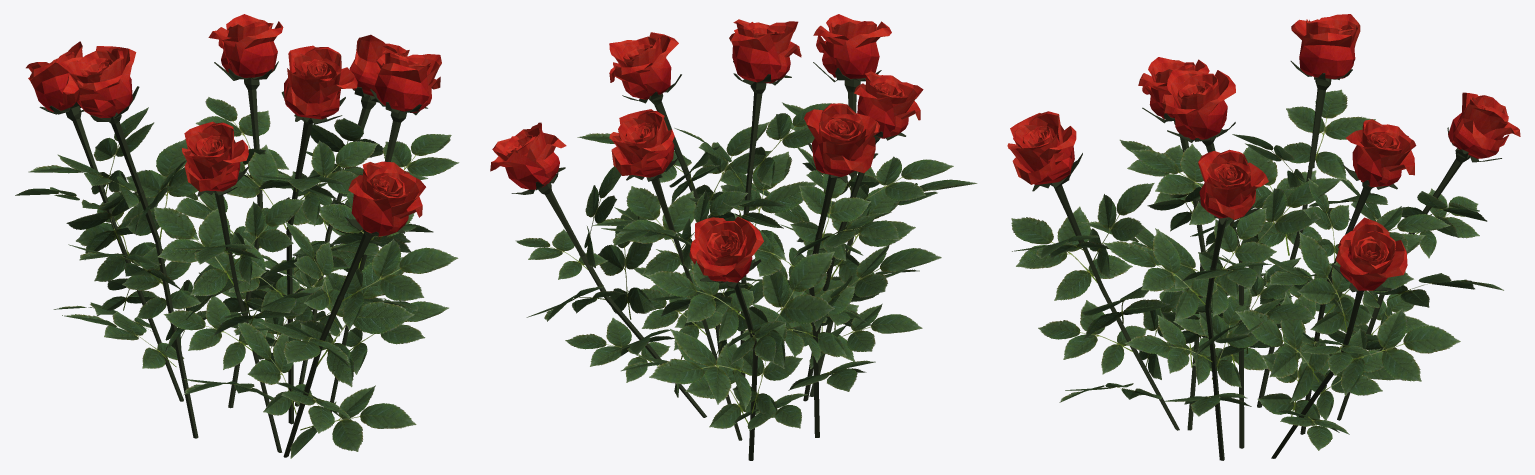
File: roses-bush.obj
3 views of the same model, side by side, from view 1: azimuth 30°, elevation 25°; view 2: azimuth 150°, elevation 25°; view 3: azimuth 270°, elevation 25° (orthographic). The views are drawn at different scales.
Parts seen in each view (by area): view 1: rose.005, rose.001, rose, Leaves.038, Leaves.036, Leaves.018, rose.002, rose.004, rose.003, Leaves.035, Leaves.006, Leaves.020 (+44 smaller); view 2: rose.001, Leaves.046, rose.006, rose.003, rose, rose.005, rose.004, Leaves.045, rose.007, rose.002, Leaves.025, Leaves.043 (+40 smaller); view 3: Leaves.053, rose, rose.005, rose.007, Leaves.039, rose.004, rose.001, rose.003, Leaves.032, Leaves.052, rose.006, Leaves.008 (+44 smaller).
Boxes of the visible parts, x1,y1,x2,y2 form: rose.005: (348,161,425,236); rose.001: (60,46,136,118); rose: (284,45,357,119); Leaves.038: (300,257,414,387); Leaves.036: (342,239,458,329); Leaves.018: (154,207,266,295); rose.002: (182,121,248,191); rose.004: (374,50,441,112); rose.003: (208,14,283,77); Leaves.035: (290,385,416,458); Leaves.006: (291,140,377,226); Leaves.020: (231,199,305,284); rose.001: (804,103,879,176); Leaves.046: (748,251,834,368); rose.006: (689,216,763,282); rose.003: (609,109,674,177); rose: (729,19,801,83); rose.005: (813,14,891,78); rose.004: (609,32,678,99); Leaves.045: (649,329,751,409); rose.007: (490,122,566,189); rose.002: (854,71,923,138); Leaves.025: (616,186,695,275); Leaves.043: (646,261,754,342); Leaves.053: (1341,308,1460,395); rose: (1162,70,1235,139); rose.005: (1007,111,1076,184); rose.007: (1336,217,1407,290); Leaves.039: (1011,206,1132,300); rose.004: (1198,149,1268,219); rose.001: (1291,14,1360,78); rose.003: (1346,119,1416,187); Leaves.032: (1103,229,1217,319); Leaves.052: (1235,292,1328,402); rose.006: (1448,92,1520,158); Leaves.008: (1283,89,1375,180).
Size of the model in its own units: 39.57 by 36.12 by 45.31.
